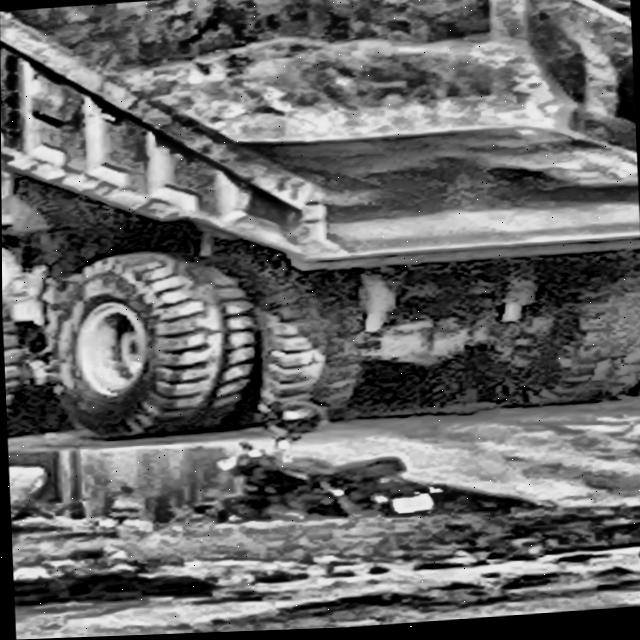dump_truck: (0, 0, 640, 433)
